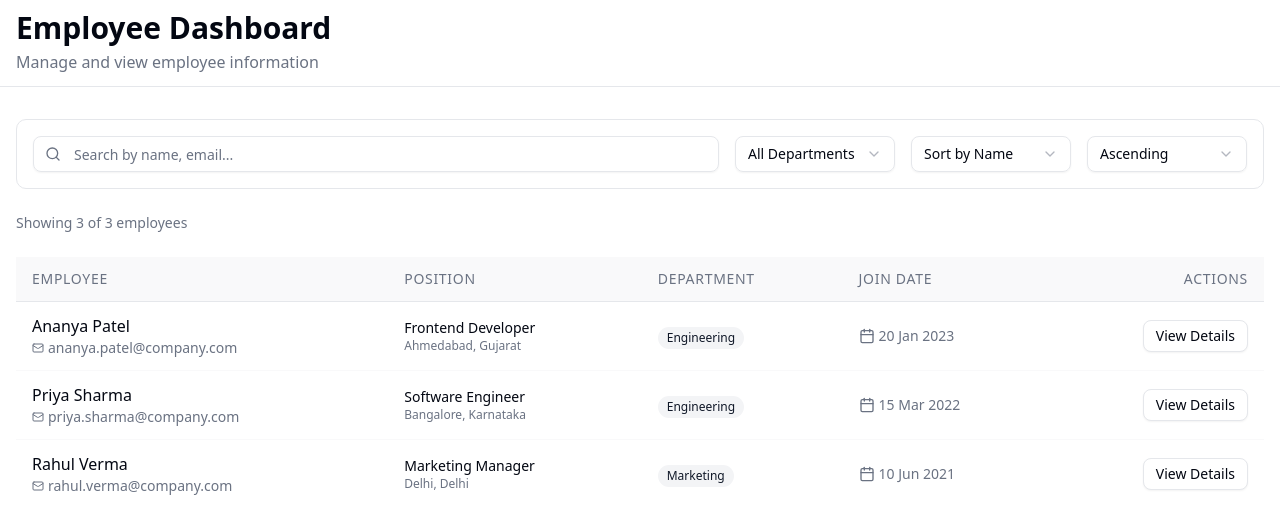
Test: Dashboard › filters employees by name
Type "Priya" into the field with placeholder "Search by name, email...". click: (376, 154)
box: [33,136,719,172]
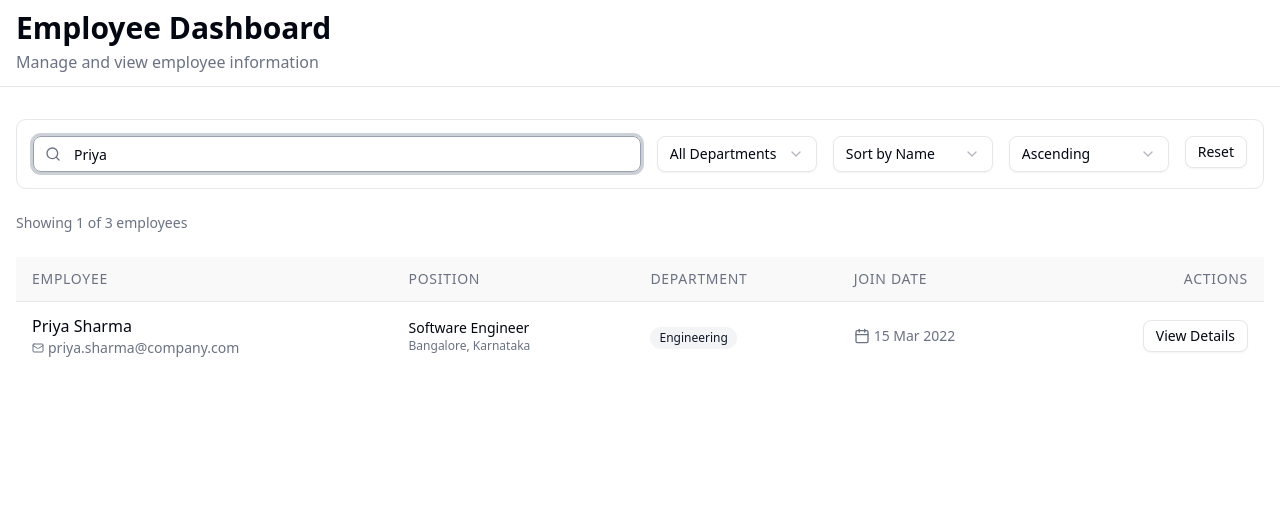
Check: the text "Showing 1 of 3 employees" is shown, box [16,213,187,232]
Check: the text "Priya Sharma" is shown 2 times
Check: the text "Rahul Verma" is gone
